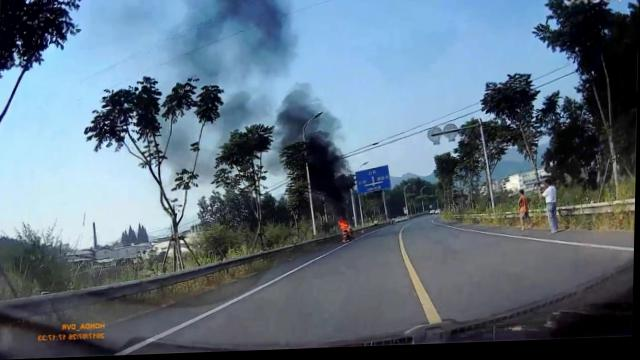fire: (341, 222, 351, 230)
